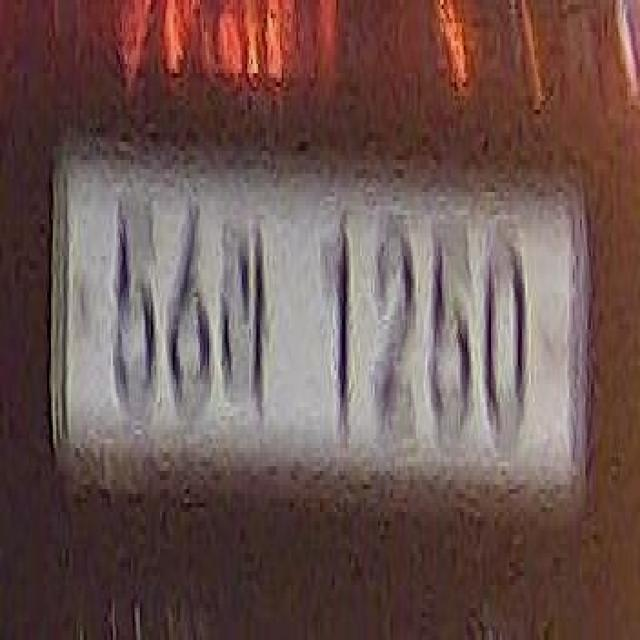illegal_plate: (63, 146, 595, 526)
